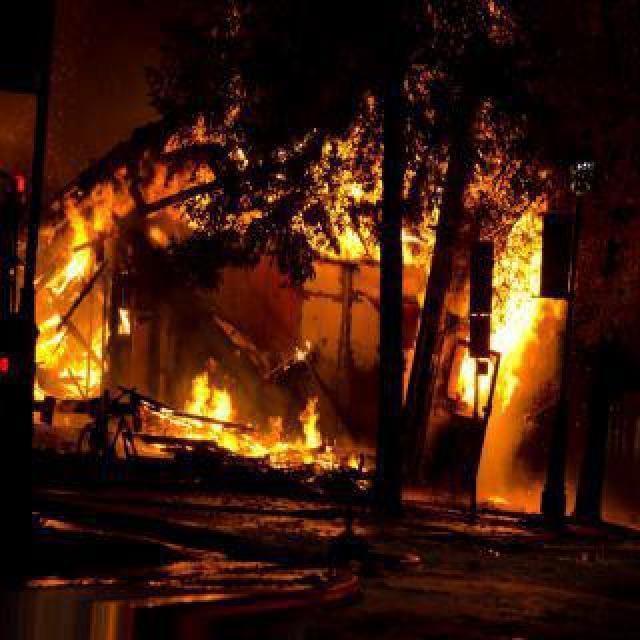Fire: (452, 242, 558, 410), (44, 186, 112, 300), (36, 312, 112, 414), (252, 390, 332, 472), (156, 366, 236, 444)
Smoke: (480, 414, 544, 508)
